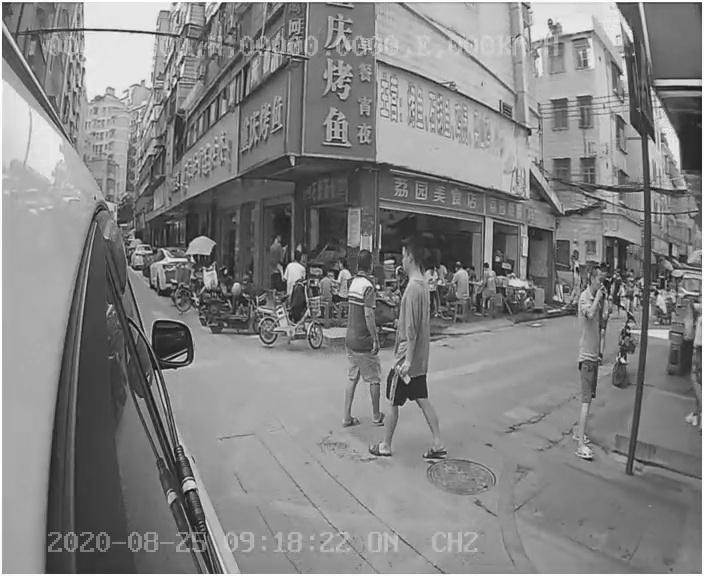person: (364, 243, 462, 461), (556, 265, 624, 460)
